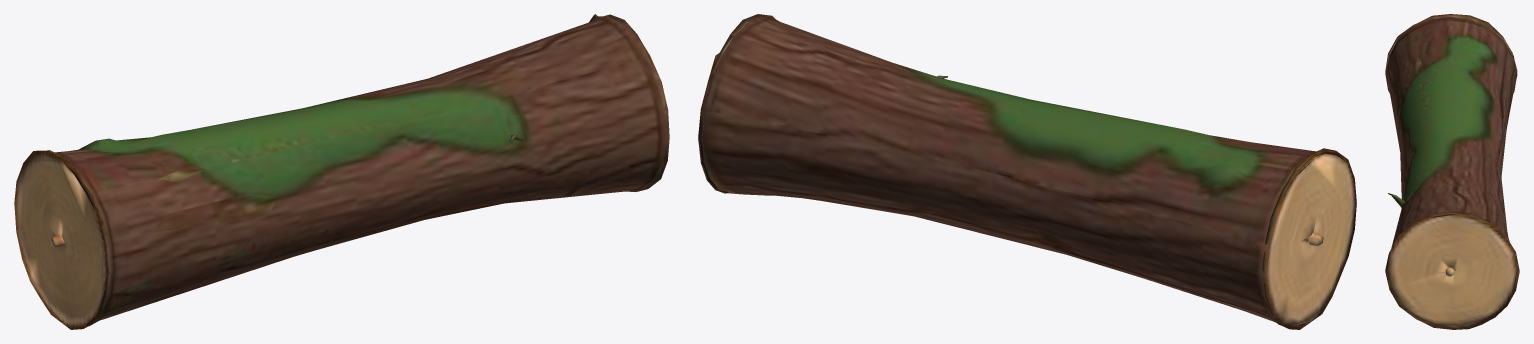
File: Log.lod1.glb
3 renders of one model, left to right at view 1: azimuth 30°, elevation 25°; view 2: azimuth 150°, elevation 25°; view 3: azimuth 270°, elevation 25°, orthographic. The views are drawn at different scales.
Bounding box in the file's own units: 2.5 × 0.6836 × 0.6982.
Materials: 1 (1 with a texture image).
